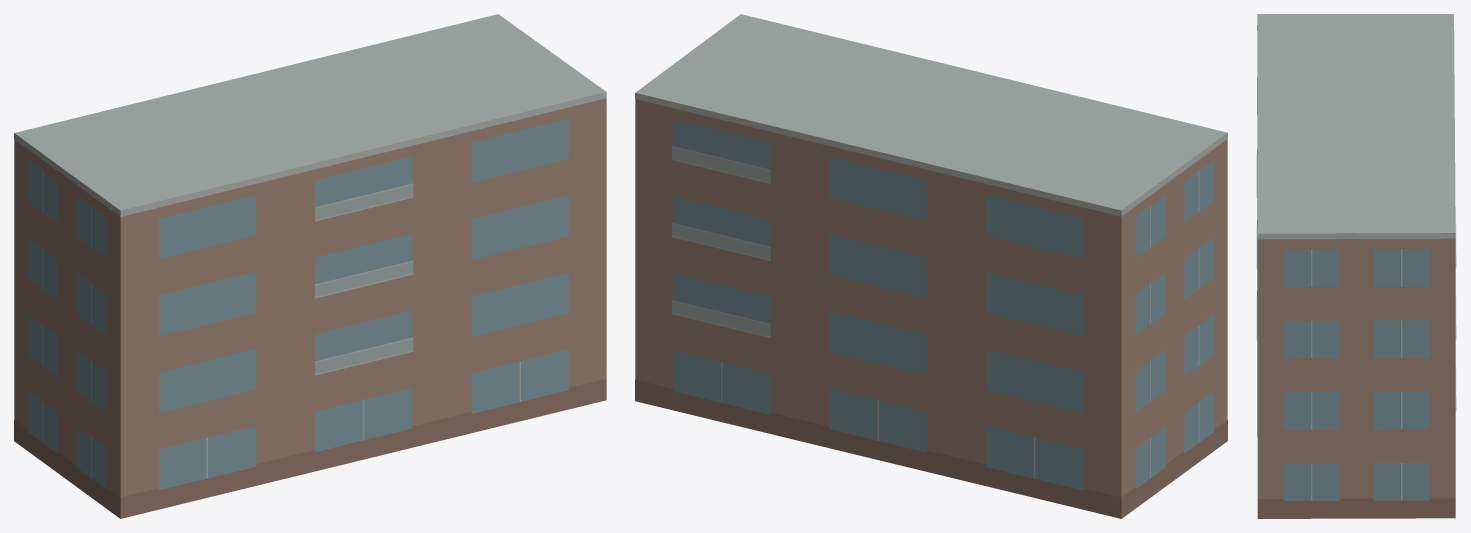
The model's file is survey-upis-32820334.glb.
The picture shows the model from 3 angles, left to right: view 1: azimuth 30°, elevation 25°; view 2: azimuth 150°, elevation 25°; view 3: azimuth 270°, elevation 25°; orthographic projection. The views are drawn at different scales.
Parts seen in each view (by area): view 1: survey-upis-32820334.tmp; view 2: survey-upis-32820334.tmp; view 3: survey-upis-32820334.tmp.
Part boxes in pixels (x1,y1,x2,y2): survey-upis-32820334.tmp: (14,14,606,518); survey-upis-32820334.tmp: (635,14,1227,518); survey-upis-32820334.tmp: (1256,14,1456,518).
Size of the model in its own units: 20.17 by 12.2 by 7.76.
